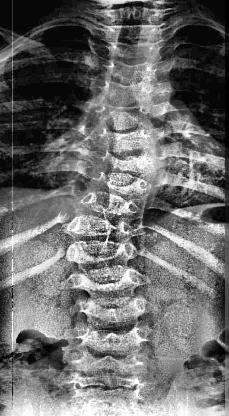Vertebrae: (75, 291, 151, 327), (63, 235, 141, 269), (74, 320, 152, 354), (70, 262, 146, 296), (70, 346, 152, 376), (66, 212, 138, 244), (80, 188, 146, 222), (91, 162, 151, 198), (96, 100, 152, 134), (97, 126, 156, 158), (98, 145, 160, 175), (95, 80, 161, 108), (101, 60, 163, 84), (104, 20, 162, 44), (104, 41, 165, 63)
